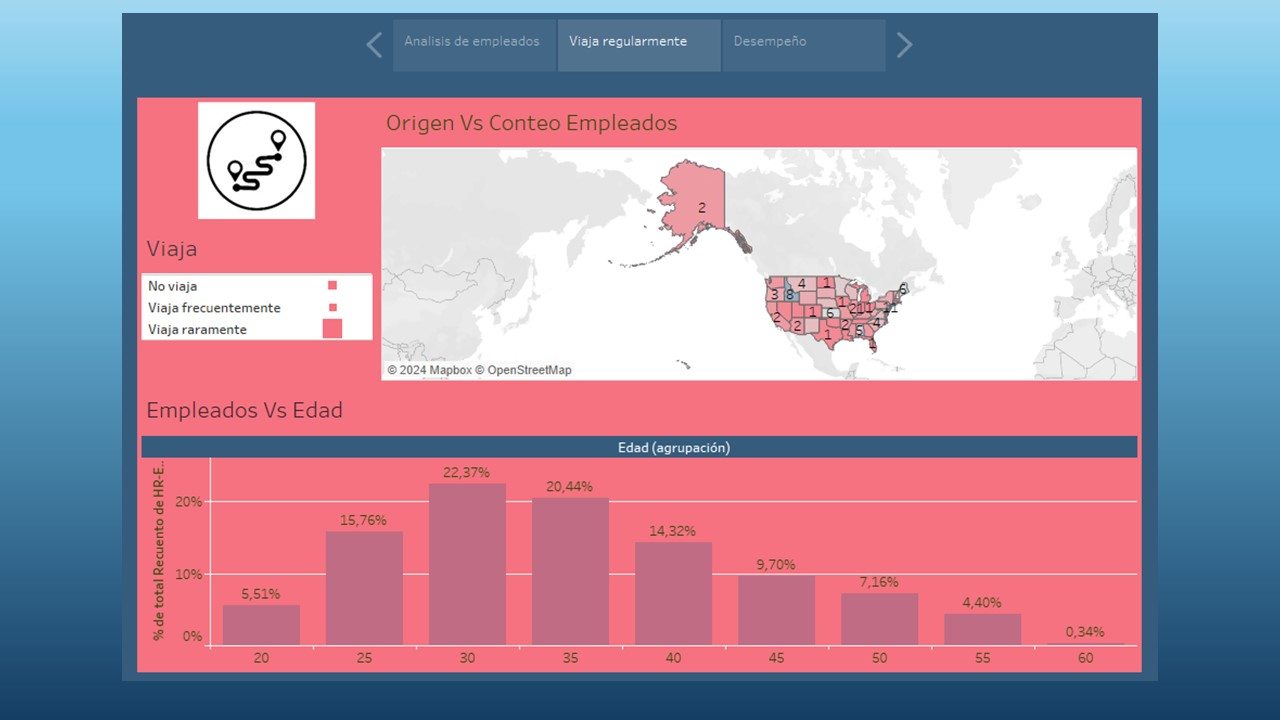

The dashboard page shown, as its layout file describes it:
{"tool":"tableau","page":{"name":"Dashboard 2","canvas":[926,530],"ordinal":1},"visuals":[{"type":"image","param":"Image/viajar 2.jpg","box":[0,0,221.2,116]},{"type":"worksheet","title":"Origen Vs Conteo Empleados","mark":"Automatic","box":[221.2,0,704.8,265]},{"type":"worksheet","title":"Viaja","mark":"Automatic","rows":["Viaja"],"box":[0,116,221.2,149]},{"type":"worksheet","title":"Empleados Vs Edad","mark":"Bar","rows":["HR-Employee_1B6005150228431998E465BFF00F4FFE"],"cols":["Edad (agrupación)"],"box":[0,265,926,265]}]}

Visuals, with their boxes in screenshot pixels (x1, y1, x2, y2), scaled from the page's 926x530 canvas onto the 1280x720 screenshot:
image: [x1=0, y1=0, x2=306, y2=158]
"Origen Vs Conteo Empleados" worksheet: [x1=306, y1=0, x2=1279, y2=360]
"Viaja" worksheet: [x1=0, y1=158, x2=306, y2=360]
"Empleados Vs Edad" worksheet (Bar marks): [x1=0, y1=360, x2=1279, y2=719]
